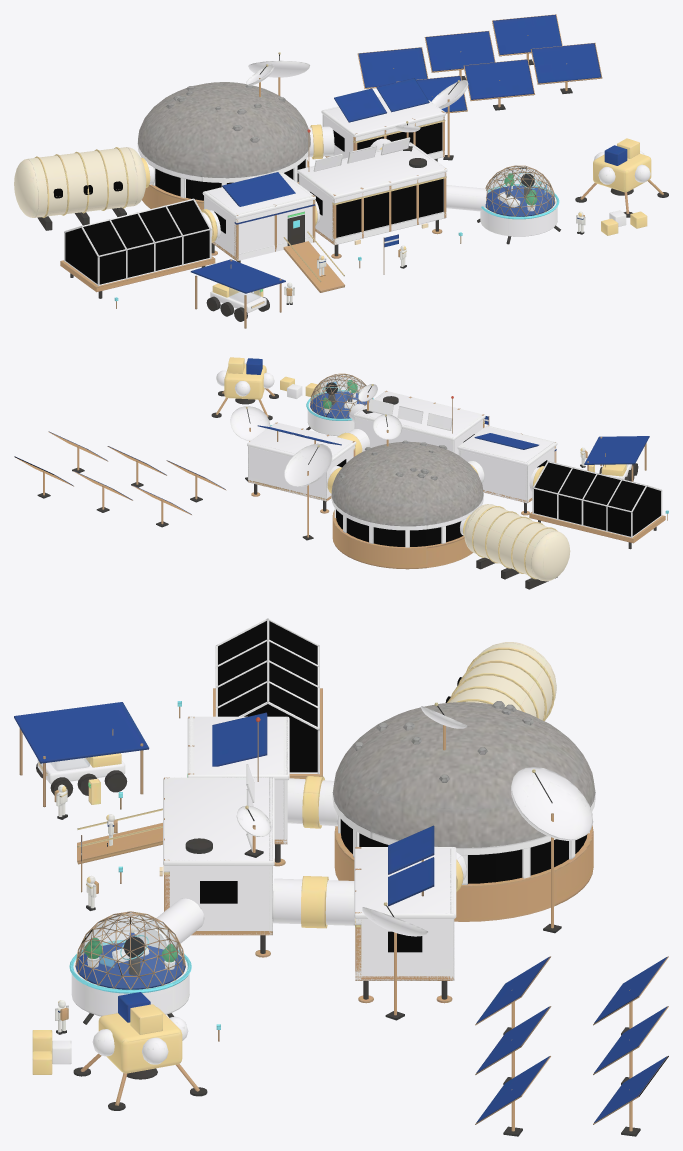
The model's file is design_5.glb.
The picture shows the model from 3 angles, top to bottom: view 1: azimuth 30°, elevation 25°; view 2: azimuth 150°, elevation 25°; view 3: azimuth 270°, elevation 25°; orthographic projection. The views are drawn at different scales.
Visible parts, largest first — view 1: 5_RICH_BAKED; view 2: 5_RICH_BAKED; view 3: 5_RICH_BAKED.
Boxes of the visible parts, x1,y1,x2,y2 form: 5_RICH_BAKED: (14, 14, 668, 328); 5_RICH_BAKED: (14, 357, 668, 589); 5_RICH_BAKED: (14, 618, 668, 1136).
Size of the model in its own units: 53.61 by 10.8 by 33.39.
2 materials, 1 textured.
